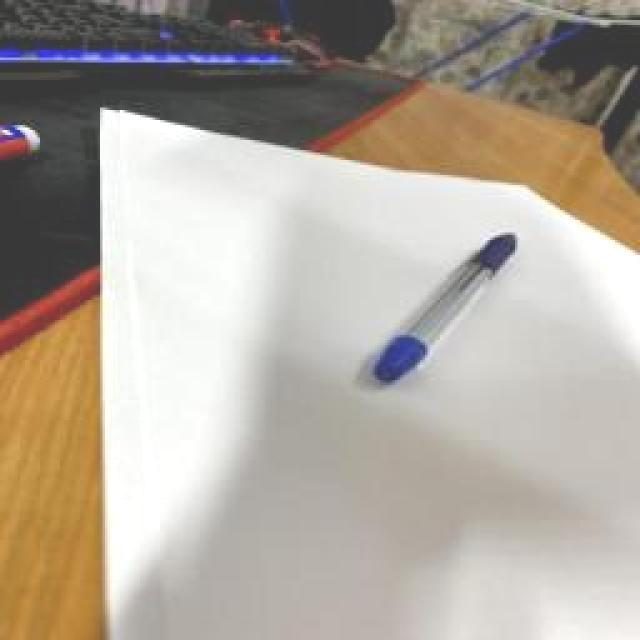pen: (372, 232, 518, 386)
